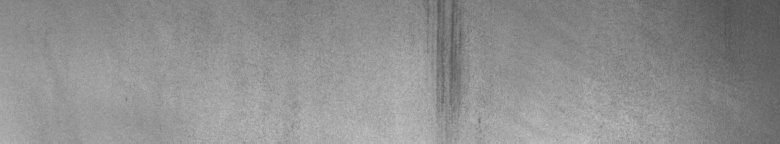ka: (424, 4, 488, 127)
